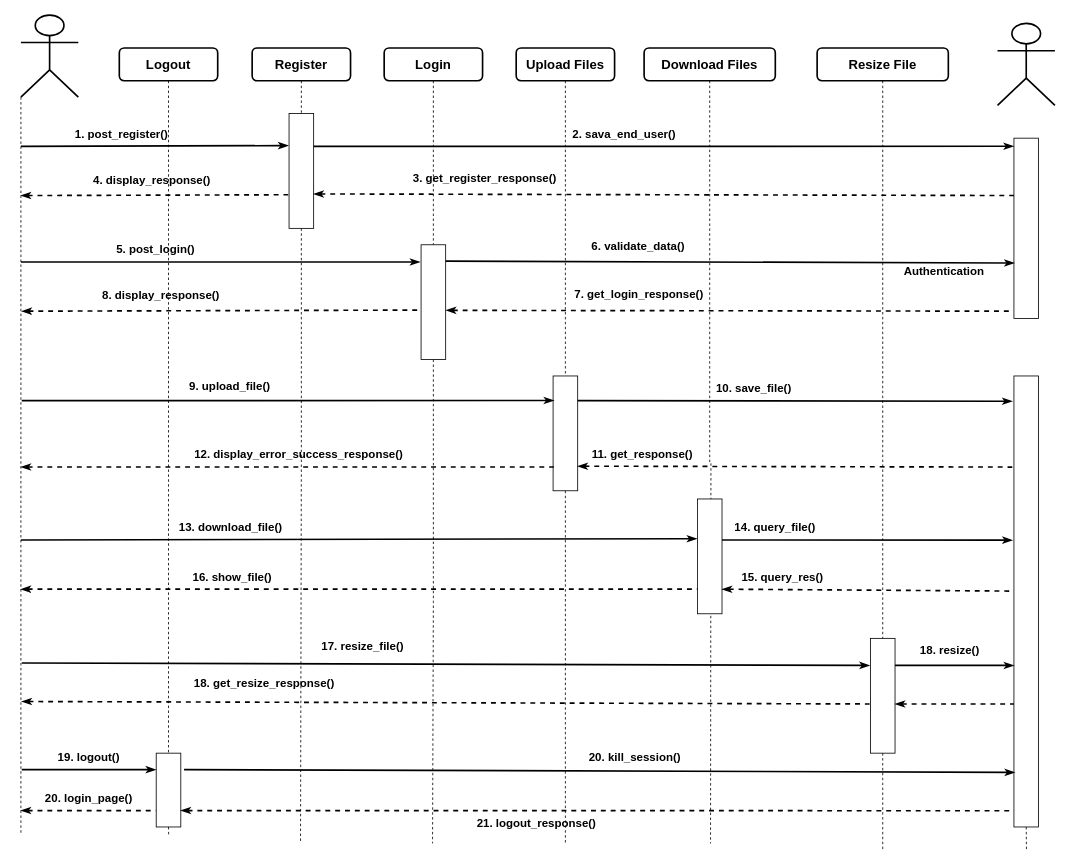
Some shapes in this 1069 by 867 pixel diagram are drawn without their labels. The box of each missing label's shape, as (x1, y1, x2, y2) in pixels:
Database: (996, 22, 1055, 106)
End User: (20, 14, 79, 98)
